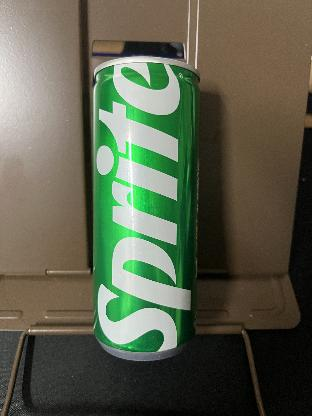Can: (91, 58, 201, 360)
